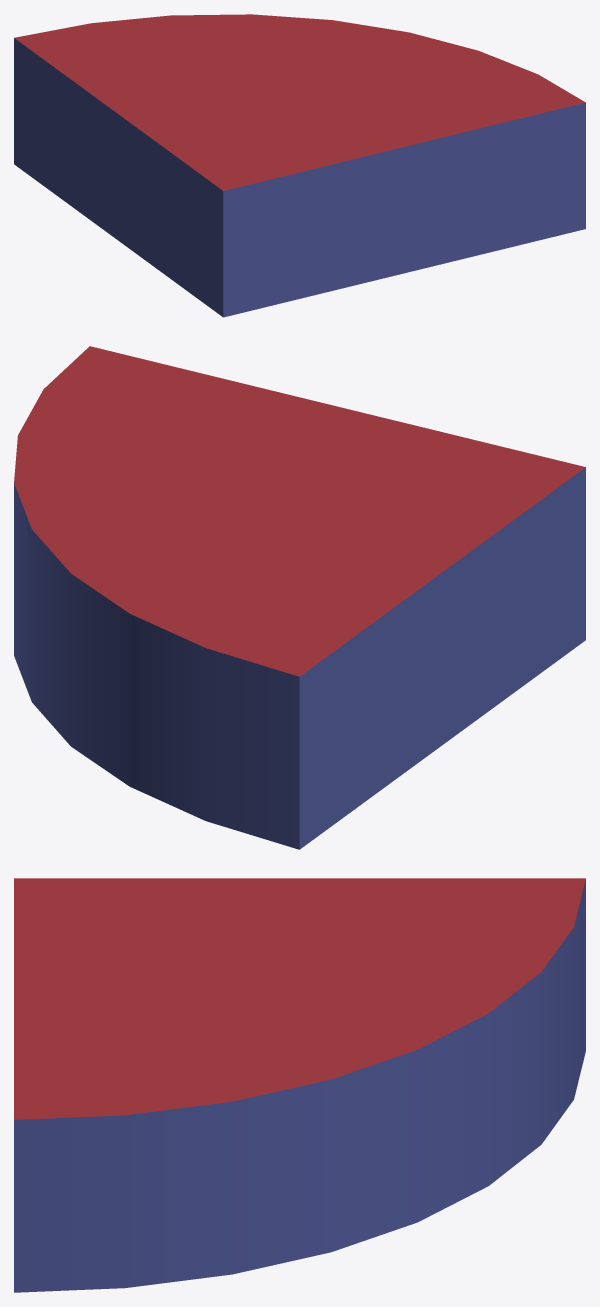
The model's file is CoL_PlatformRounded_3x3_01x.fbx.
3 views of the same model, one above another, from view 1: azimuth 30°, elevation 25°; view 2: azimuth 150°, elevation 25°; view 3: azimuth 270°, elevation 25° (orthographic). The views are drawn at different scales.
Parts seen in each view (by area): view 1: CoL_PlatformRounded_3x3_01x; view 2: CoL_PlatformRounded_3x3_01x; view 3: CoL_PlatformRounded_3x3_01x.
Part boxes in pixels (x1,y1,x2,y2): CoL_PlatformRounded_3x3_01x: [14, 14, 585, 317]; CoL_PlatformRounded_3x3_01x: [14, 346, 585, 849]; CoL_PlatformRounded_3x3_01x: [14, 878, 585, 1292].
Bounding box in the file's own units: 300 × 100 × 300.
